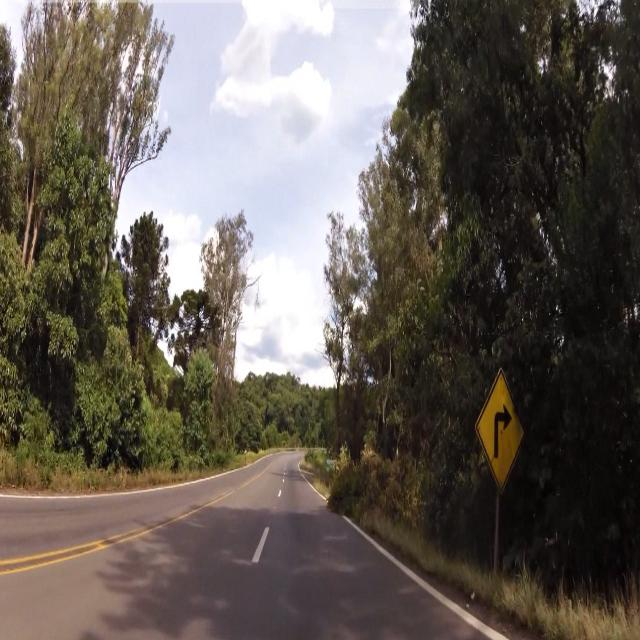A-1b: (473, 362, 543, 493)
